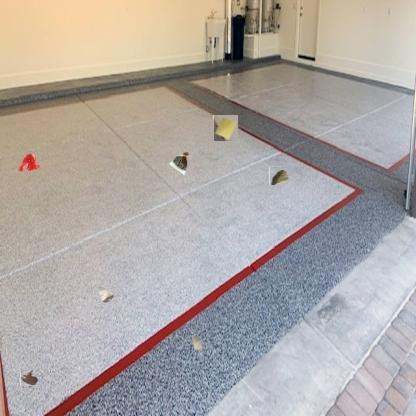dirty: (213, 116, 238, 141), (167, 149, 191, 175), (269, 166, 290, 186), (96, 284, 116, 304), (189, 333, 203, 351)
liquid: (17, 154, 41, 174), (21, 370, 39, 387)
